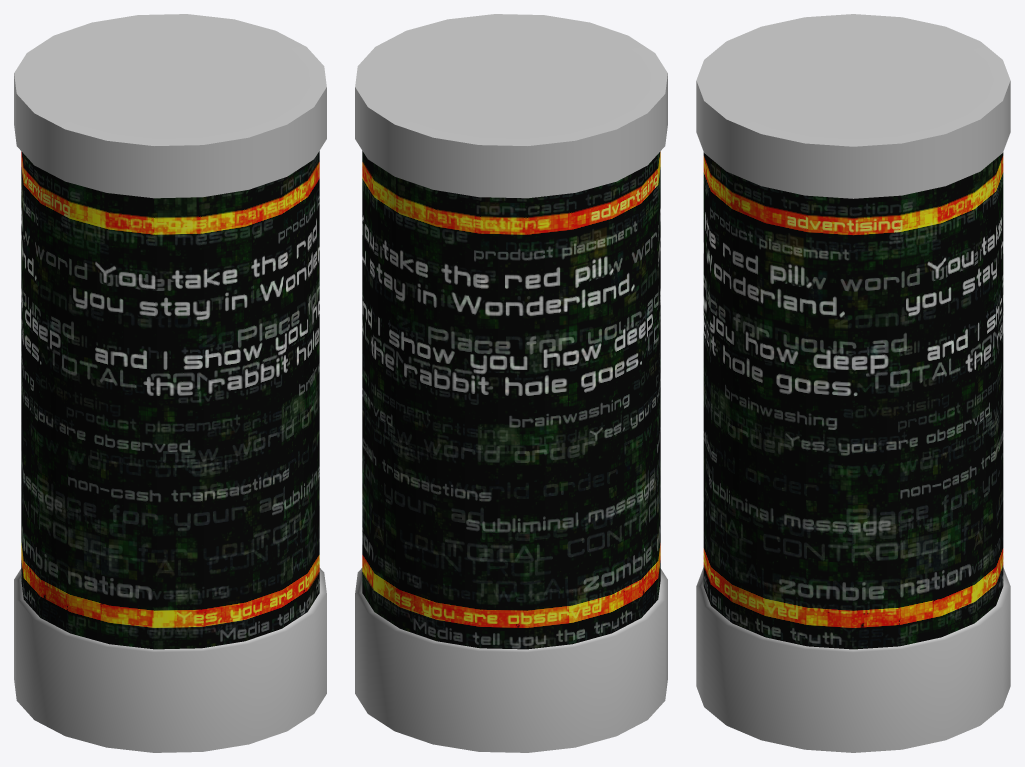
File: ad_column.fbx
The picture shows the model from 3 angles, left to right: view 1: azimuth 30°, elevation 25°; view 2: azimuth 150°, elevation 25°; view 3: azimuth 270°, elevation 25°; orthographic projection.
Visible parts, largest first — view 1: polySurface981; view 2: polySurface981; view 3: polySurface981.
Boxes of the visible parts, <box> form: polySurface981: <box>14,14,326,752</box>; polySurface981: <box>355,14,667,752</box>; polySurface981: <box>696,14,1010,752</box>.
Size of the model in its own units: 2 by 4.27 by 2.
